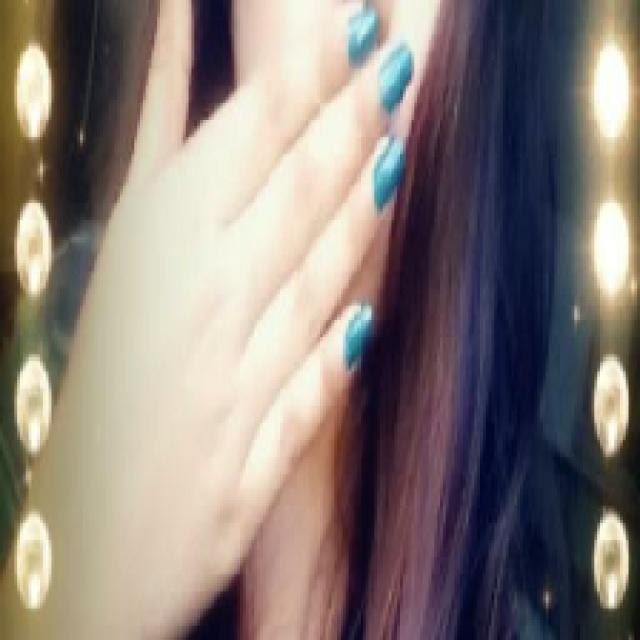Nail: (380, 44, 414, 111), (374, 139, 405, 209), (344, 305, 372, 367), (349, 8, 378, 65)
